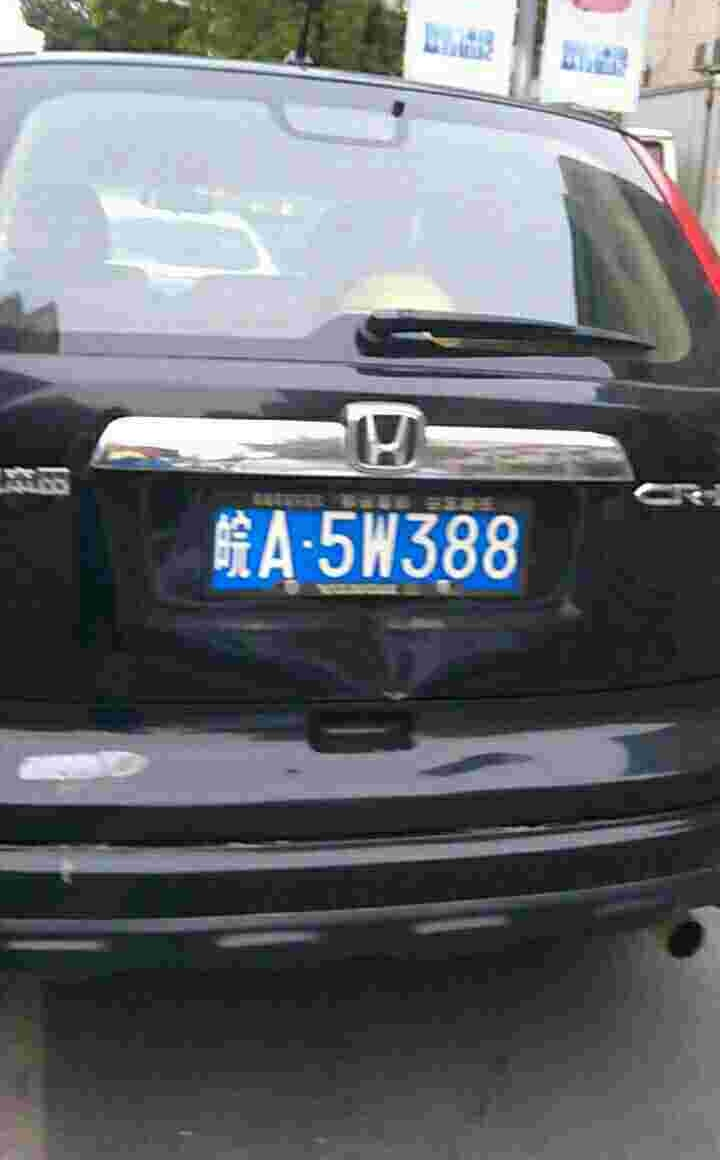license_plate: (208, 504, 523, 590)
